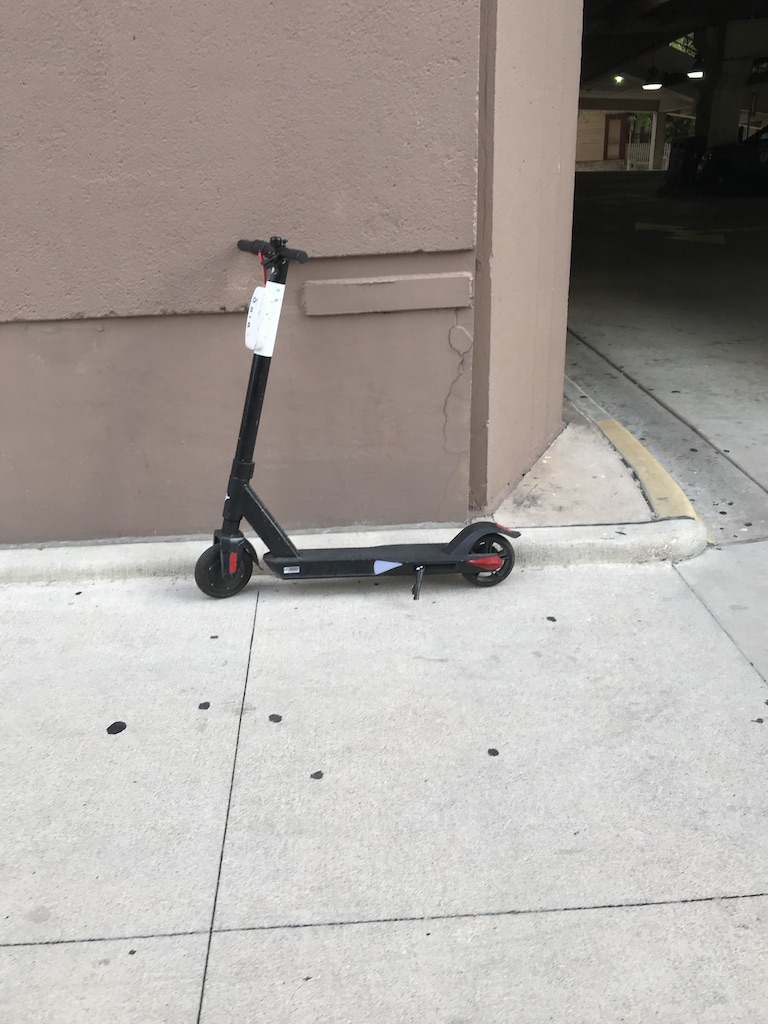scooter: (196, 235, 521, 602)
